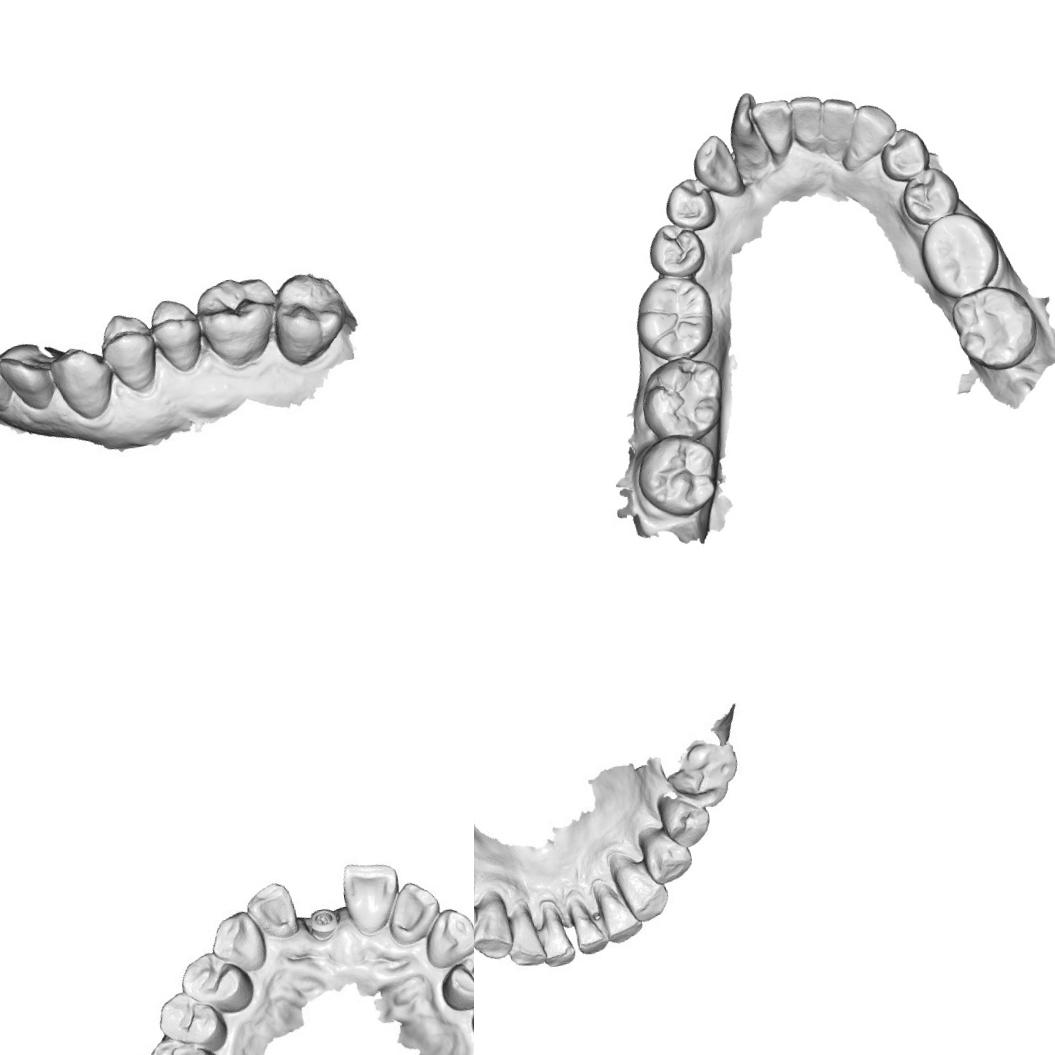canine: (42, 334, 123, 429), (206, 905, 270, 980), (611, 853, 672, 929), (688, 130, 747, 202), (840, 100, 902, 166), (418, 903, 474, 971), (474, 896, 517, 967)
implant: (305, 904, 344, 940)
incisor: (334, 856, 408, 939), (381, 875, 446, 949), (0, 339, 59, 416), (722, 89, 773, 176), (243, 878, 302, 946), (748, 96, 798, 165), (530, 902, 574, 971), (502, 906, 546, 974), (594, 882, 640, 946), (788, 92, 829, 154), (565, 902, 606, 959), (818, 94, 861, 141), (0, 342, 21, 422)
molar: (257, 267, 357, 372), (634, 350, 731, 448), (946, 280, 1044, 376), (192, 270, 284, 371), (914, 205, 1006, 304), (631, 427, 725, 522), (628, 270, 720, 366), (667, 732, 749, 816), (132, 1029, 231, 1055)
premolar: (98, 310, 165, 400), (175, 946, 256, 1020), (146, 295, 210, 380), (153, 985, 230, 1055), (896, 162, 964, 230), (643, 218, 708, 282), (876, 123, 934, 186), (661, 174, 719, 235), (432, 939, 474, 1016), (662, 793, 712, 850), (644, 828, 693, 885)
